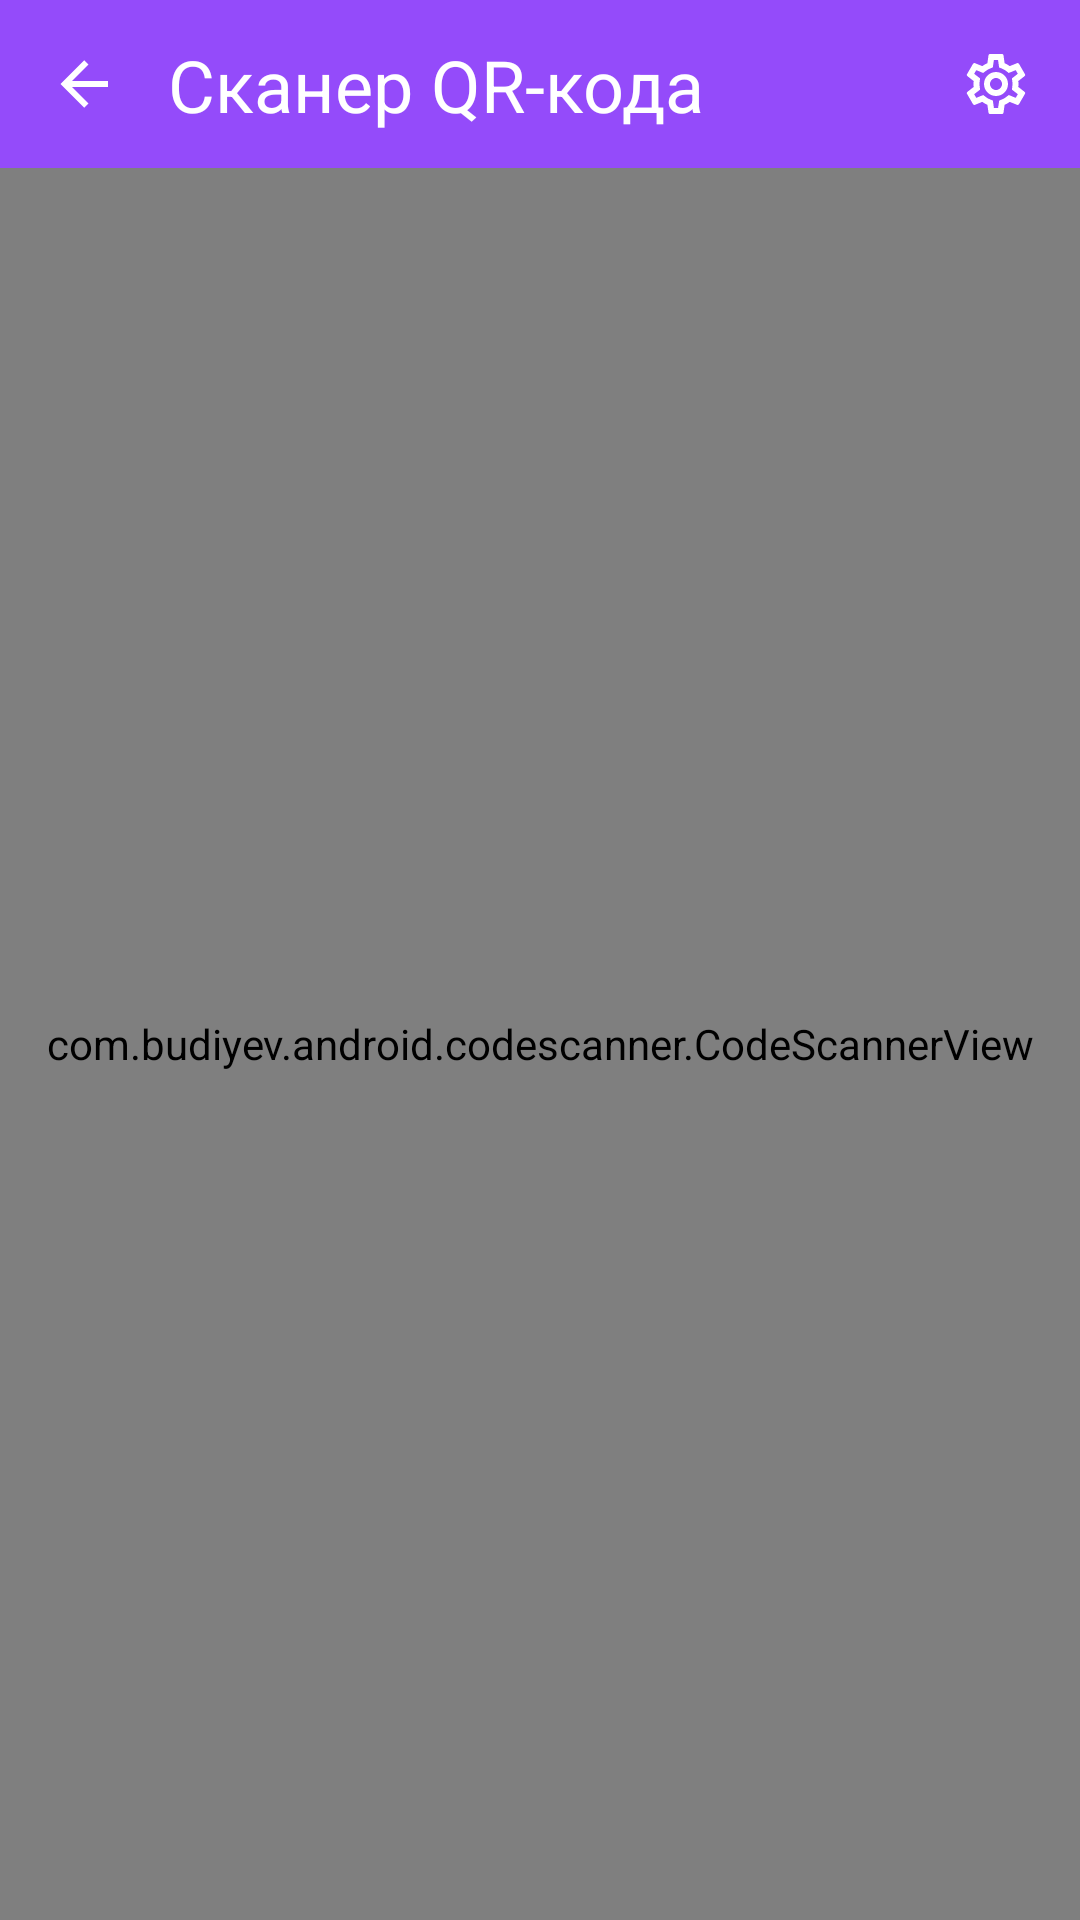

Screen size 1080px x 1920px. Icon name, then its box in pixels as (x1, y1, x2, y2):
back: (61, 60, 108, 108)
settings: (967, 54, 1025, 114)
